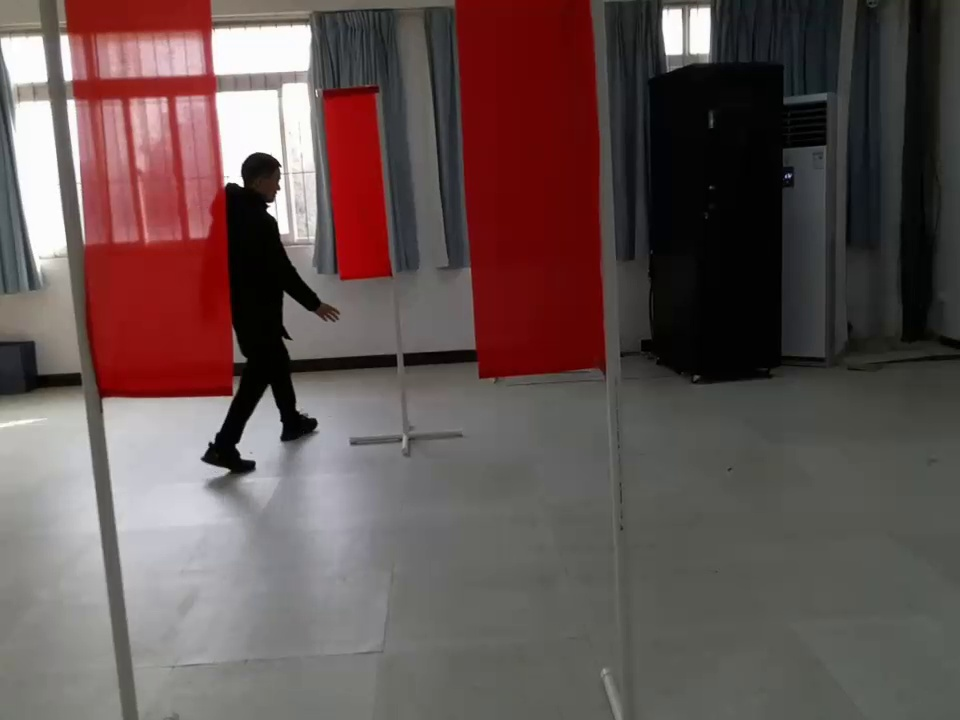qi: (26, 1, 238, 408), (453, 1, 627, 379), (320, 64, 397, 292)
